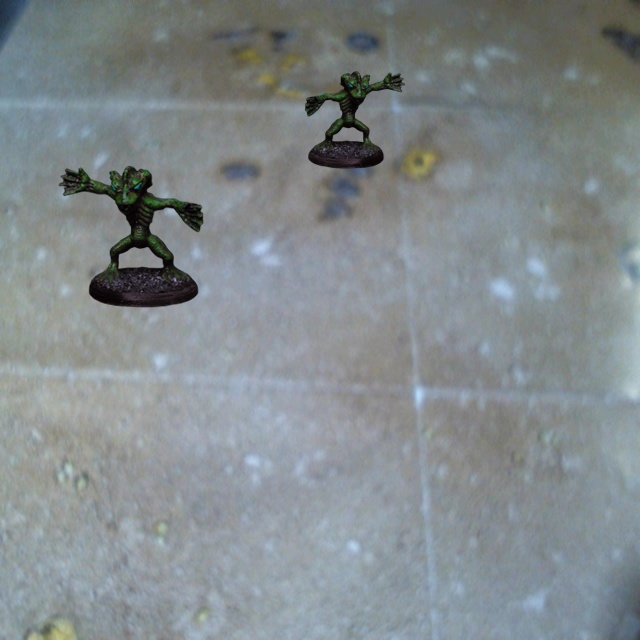pieza_juego: (59, 166, 203, 307), (305, 71, 404, 168)
